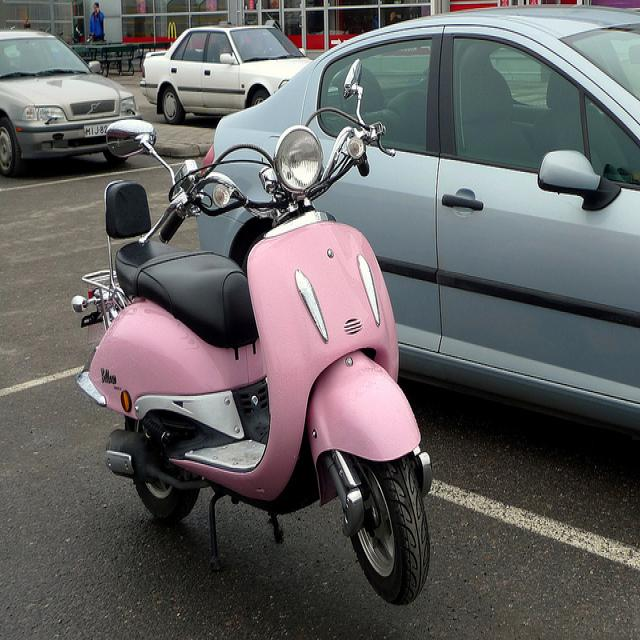motor: (72, 52, 435, 607)
